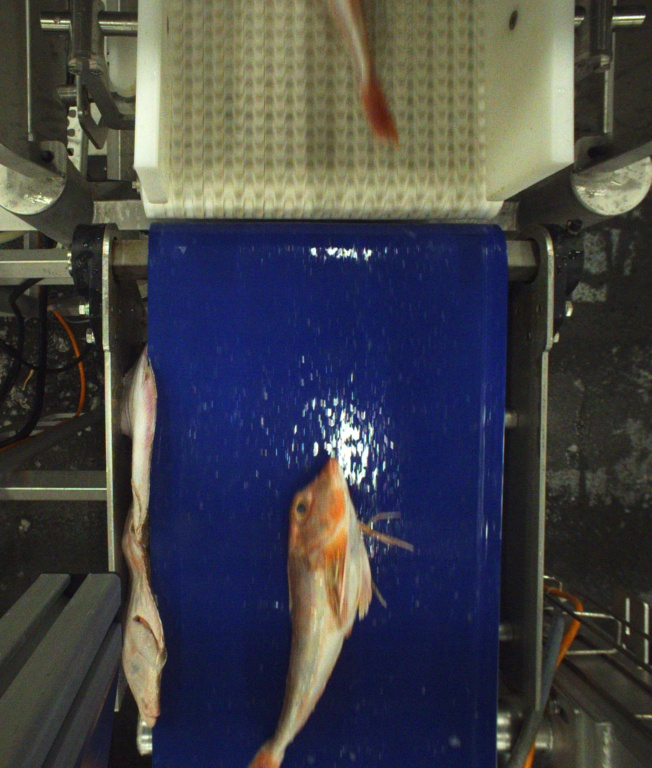GUU: (242, 456, 413, 768)
